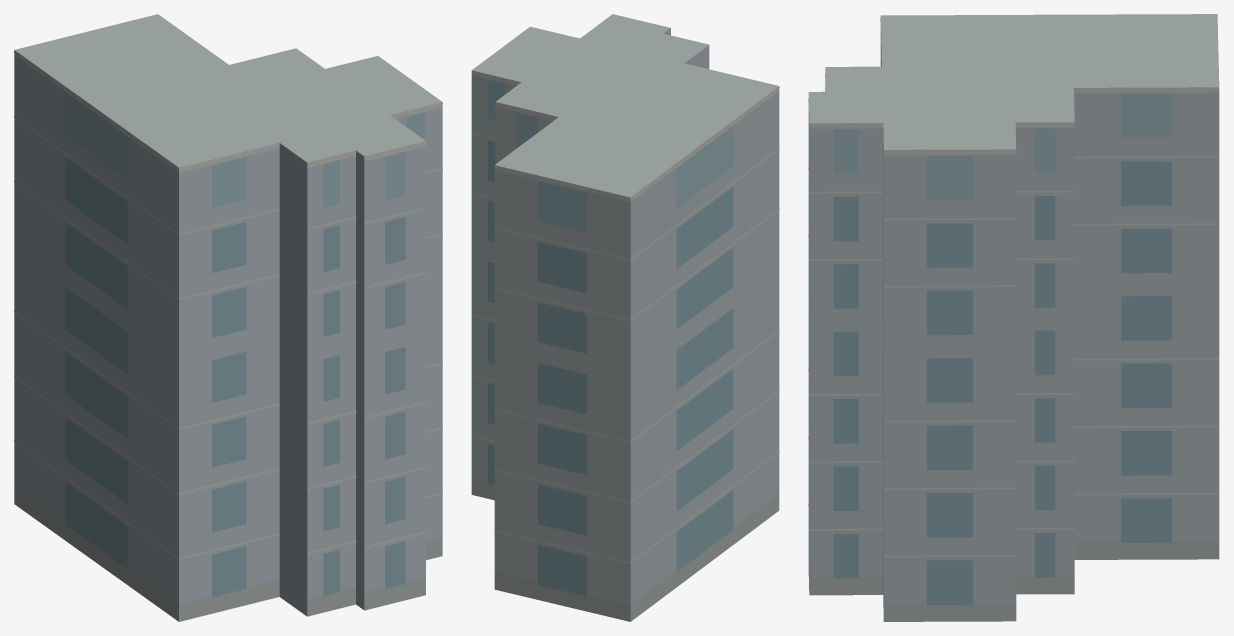
File: survey-upis-32729517.glb
3 views of the same model, side by side, from view 1: azimuth 30°, elevation 25°; view 2: azimuth 150°, elevation 25°; view 3: azimuth 270°, elevation 25° (orthographic). The views are drawn at different scales.
Visible parts, largest first — view 1: survey-upis-32729517.tmp; view 2: survey-upis-32729517.tmp; view 3: survey-upis-32729517.tmp.
Part boxes in pixels (<box>): survey-upis-32729517.tmp: <box>14,14,442,621</box>; survey-upis-32729517.tmp: <box>471,14,779,621</box>; survey-upis-32729517.tmp: <box>808,14,1219,621</box>.
Size of the model in its own units: 13.12 by 21.2 by 16.74.
